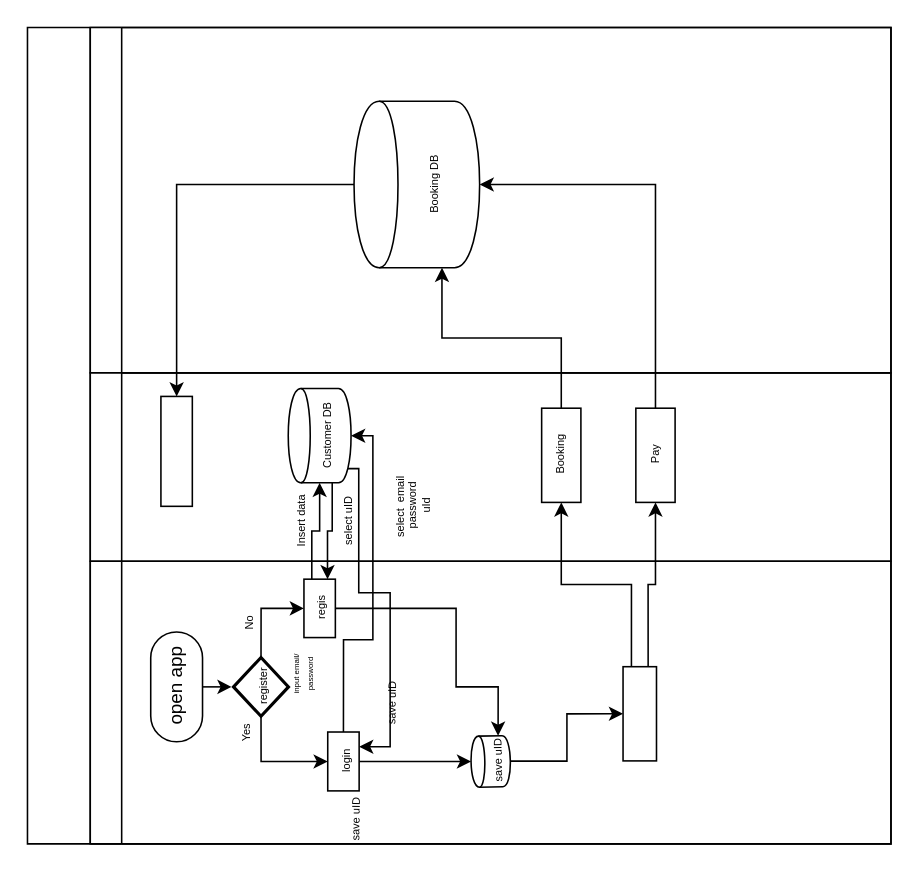
Some shapes in this 918 by 879 pixel diagram are drawn without their labels. Each missing label, with the box of its shape:
App Function: (622, 665, 657, 761)
Mobile App: (89, 560, 891, 844)
Prempracha: (89, 371, 891, 561)
Select Function....: (159, 395, 192, 506)
Zimmu: (89, 26, 891, 373)
